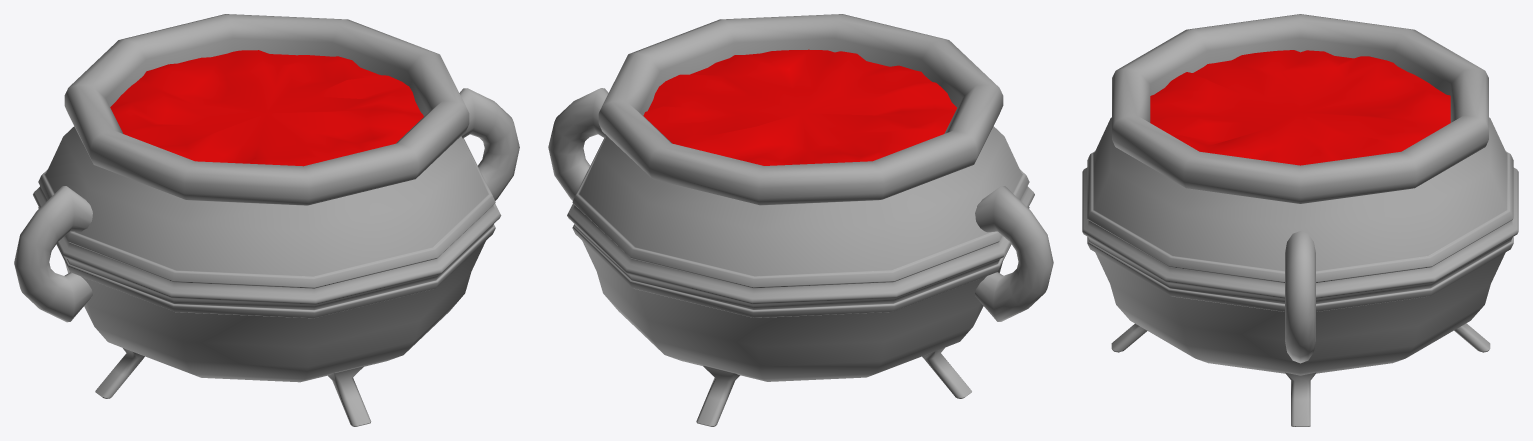
The model's file is Olla.fbx.
The picture shows the model from 3 angles, left to right: view 1: azimuth 30°, elevation 25°; view 2: azimuth 150°, elevation 25°; view 3: azimuth 270°, elevation 25°; orthographic projection. The views are drawn at different scales.
Visible parts, largest first — view 1: Olla, Liquido; view 2: Olla, Liquido; view 3: Olla, Liquido.
Part boxes in pixels (x1,y1,x2,y2): Olla: (14, 14, 519, 426); Liquido: (110, 50, 423, 166); Olla: (548, 14, 1053, 426); Liquido: (643, 49, 956, 165); Olla: (1082, 14, 1518, 426); Liquido: (1150, 50, 1450, 165).
Bounding box in the file's own units: 2.85 × 1.42 × 2.2.
